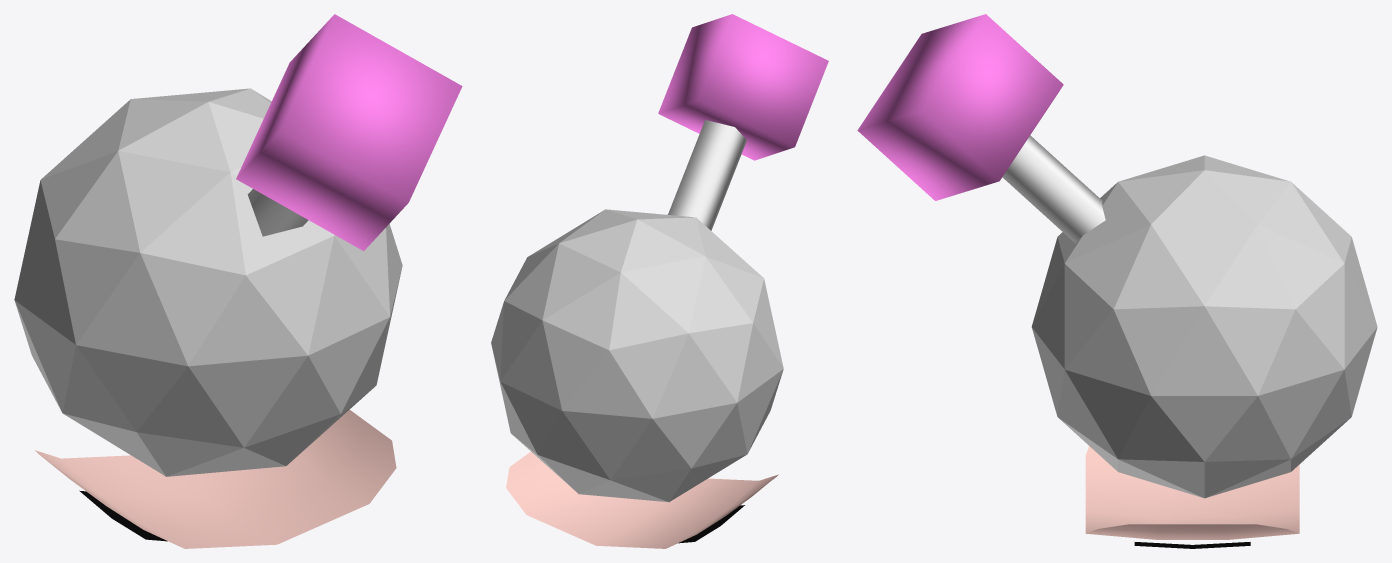
Rendered from hat-bomber.glb.
The picture shows the model from 3 angles, left to right: view 1: azimuth 30°, elevation 25°; view 2: azimuth 150°, elevation 25°; view 3: azimuth 270°, elevation 25°; orthographic projection. The views are drawn at different scales.
Visible parts, largest first — view 1: hat-bomber; view 2: hat-bomber; view 3: hat-bomber.
Part boxes in pixels (left/top/right/bottom): hat-bomber: left=14, top=14, right=462, bottom=548; hat-bomber: left=491, top=14, right=828, bottom=548; hat-bomber: left=857, top=14, right=1377, bottom=548.
Bounding box in the file's own units: 0.827 × 1.41 × 1.32.
Materials: 2 (1 with a texture image).
